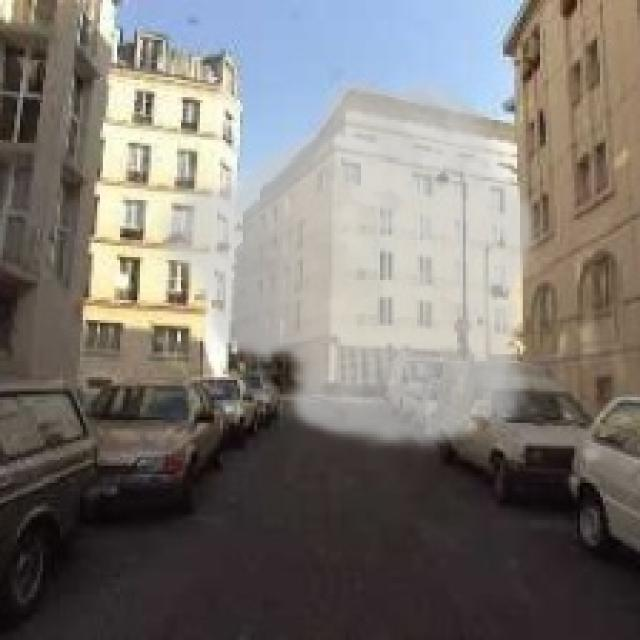smoke: (148, 66, 543, 454)
